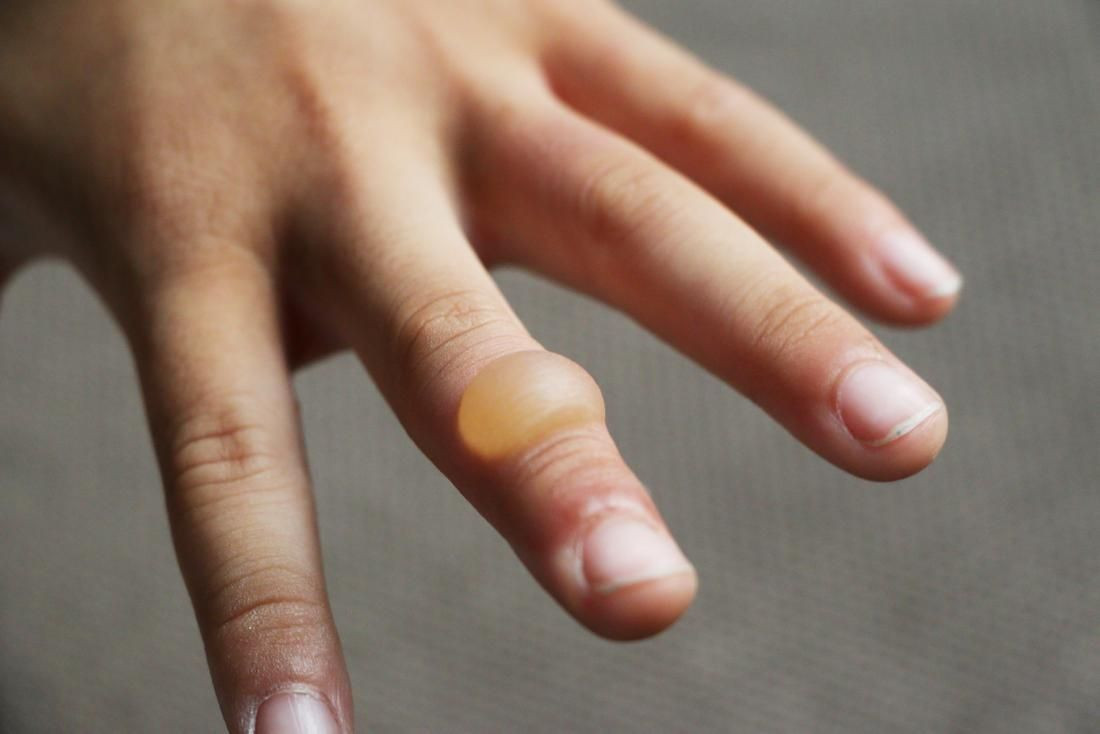Luka Bakar: (437, 339, 620, 476)
